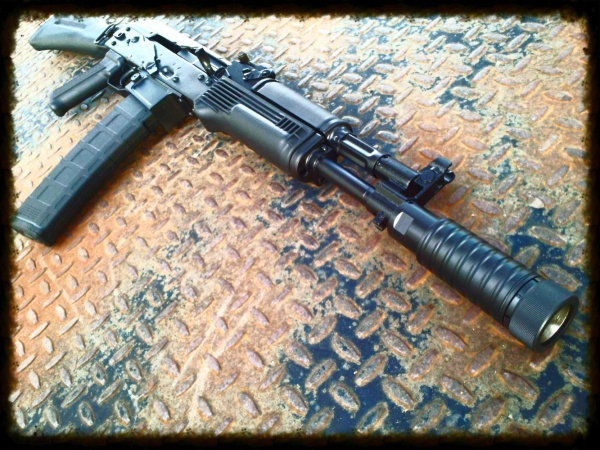ak47: (21, 14, 575, 350)
